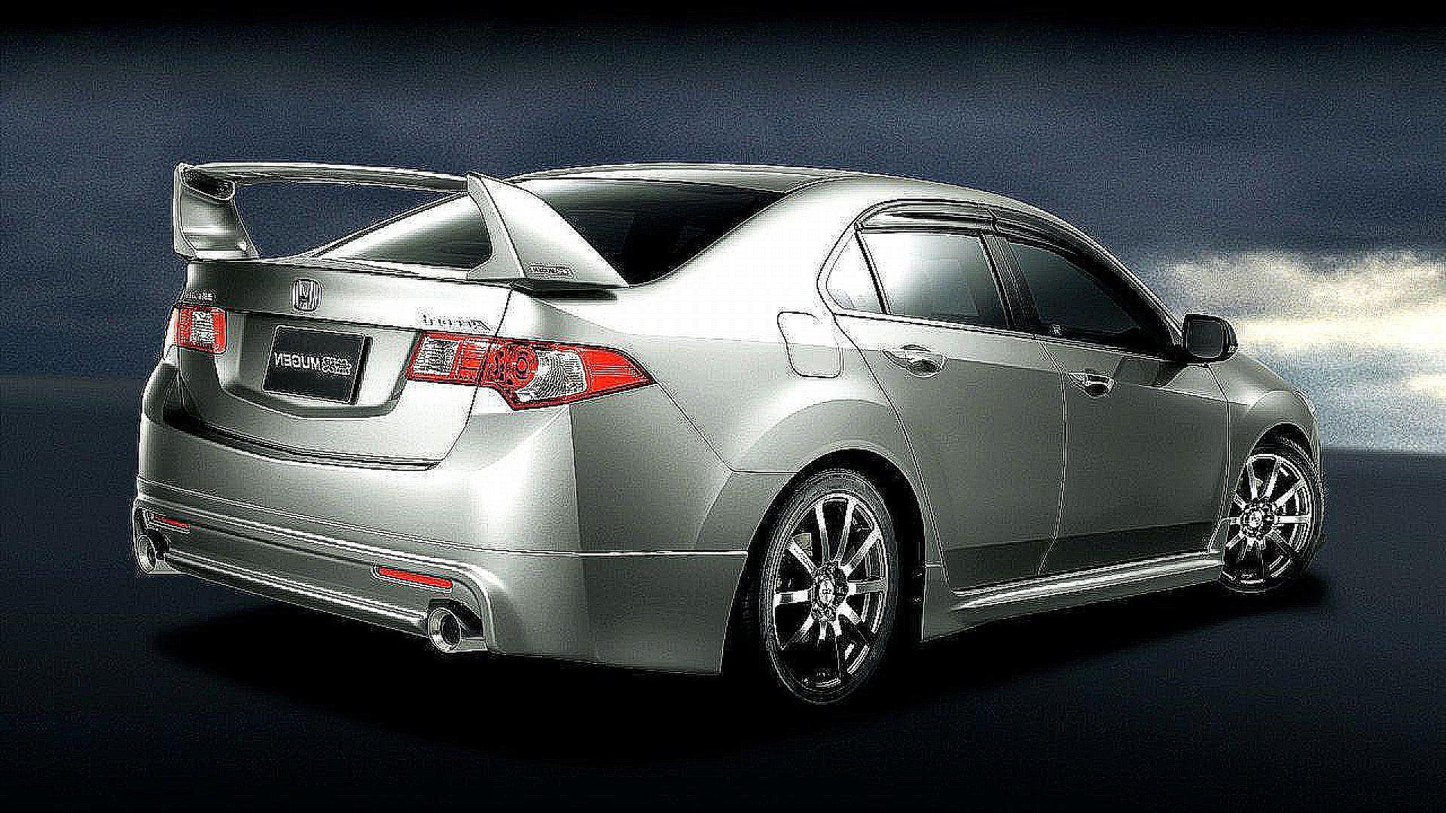Car boot: (173, 252, 514, 470)
Driver-s door - -F-R-: (994, 180, 1242, 622)
Fender - -F-R-: (1206, 346, 1323, 547)
Fender - -R-R-: (519, 198, 947, 630)
Passenger-s door - -R-R-: (797, 175, 1071, 647)
Rear bumper: (128, 419, 743, 684)
Rear light - -L-: (161, 303, 230, 357)
Rear light - -R-: (402, 326, 658, 415)
Side bumper - -R-: (920, 535, 1231, 659)
Side mirror - -R-: (1165, 301, 1236, 379)
